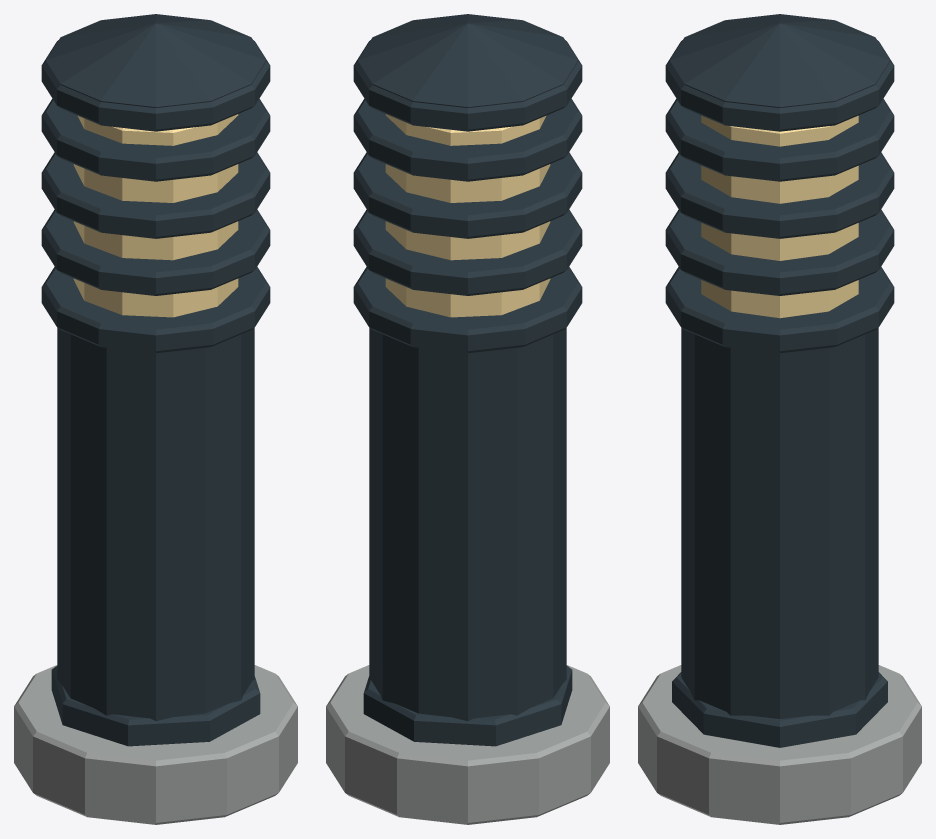
File: b18_louvered_cylinder_light_bollard.glb
3 renders of one model, left to right at view 1: azimuth 30°, elevation 25°; view 2: azimuth 150°, elevation 25°; view 3: azimuth 270°, elevation 25°, orthographic.
Visible parts, largest first — view 1: b18_louvered_cylinder_light_bollard; view 2: b18_louvered_cylinder_light_bollard; view 3: b18_louvered_cylinder_light_bollard.
Part boxes in pixels (x1,y1,x2,y2): b18_louvered_cylinder_light_bollard: (14, 14, 297, 824); b18_louvered_cylinder_light_bollard: (326, 14, 609, 824); b18_louvered_cylinder_light_bollard: (638, 14, 921, 824).
Size of the model in its own units: 0.36 by 1.04 by 0.36.
